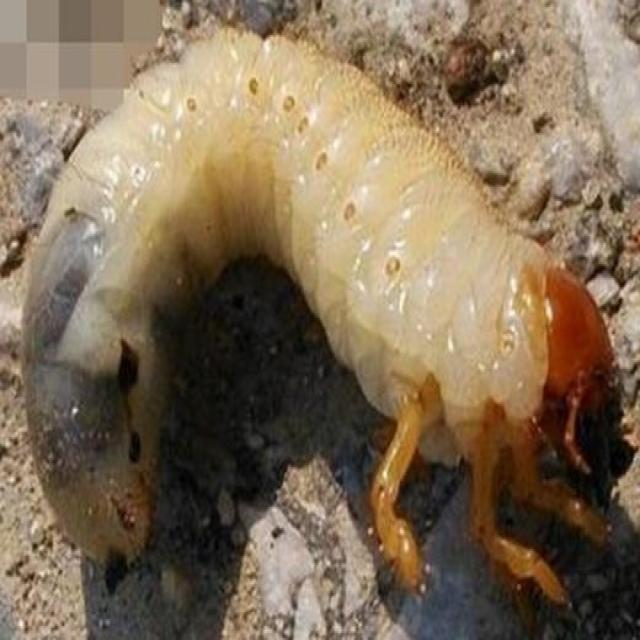grub: (15, 35, 610, 478)
